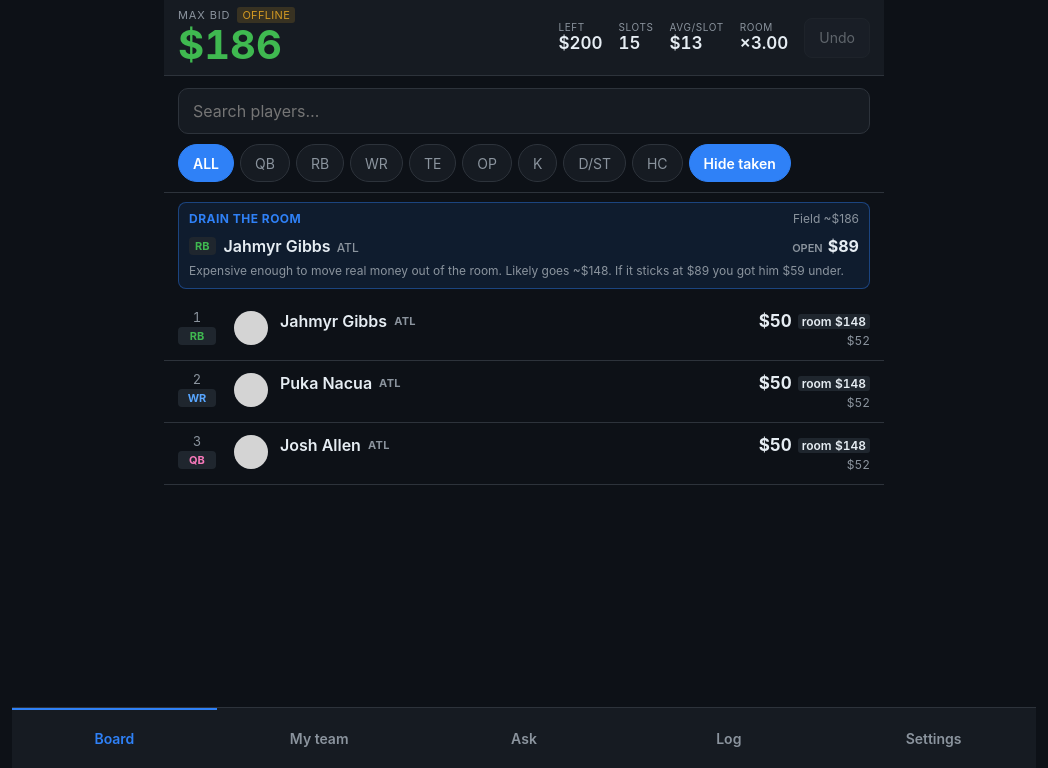
Scenario: draft board end to end › says it is offline rather than letting the scout fail obscurely
Expected: the text "Offline" is shown, 237,7 -> 295,23
Click the text "Jahmyr Gibbs". click: (334, 321)
box: 280,311 -> 387,331
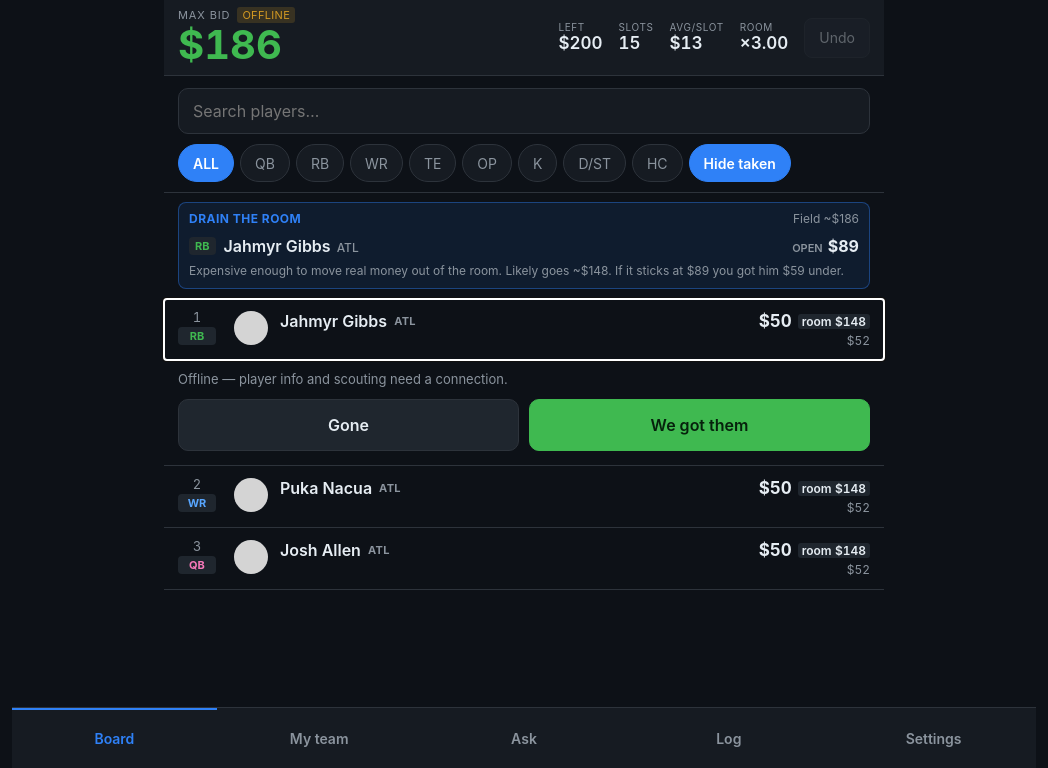
Now the text "Offline — player info and scouting need a connection." is shown, box 178,371 -> 508,387
